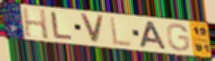A: (138, 20, 169, 51)
G: (166, 22, 192, 53)
H: (20, 6, 50, 41)
L: (109, 16, 134, 48), (50, 11, 75, 40)
V: (78, 12, 106, 45)
